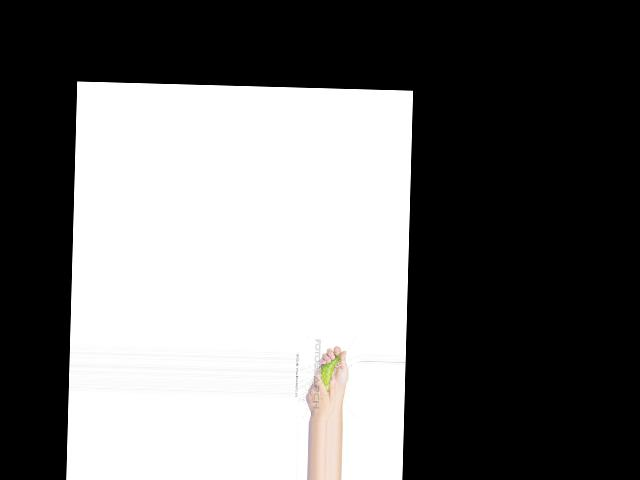cucumber: (318, 353, 340, 393)
